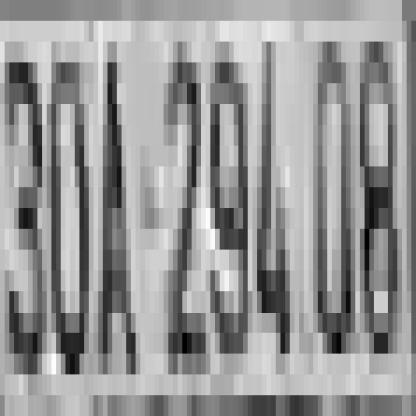0: (308, 41, 350, 354), (51, 63, 89, 354)
2: (168, 63, 206, 354)
3: (4, 63, 46, 354)
4: (252, 42, 290, 332)
8: (355, 41, 398, 354)
9: (206, 63, 243, 354)
A: (98, 41, 140, 354)
